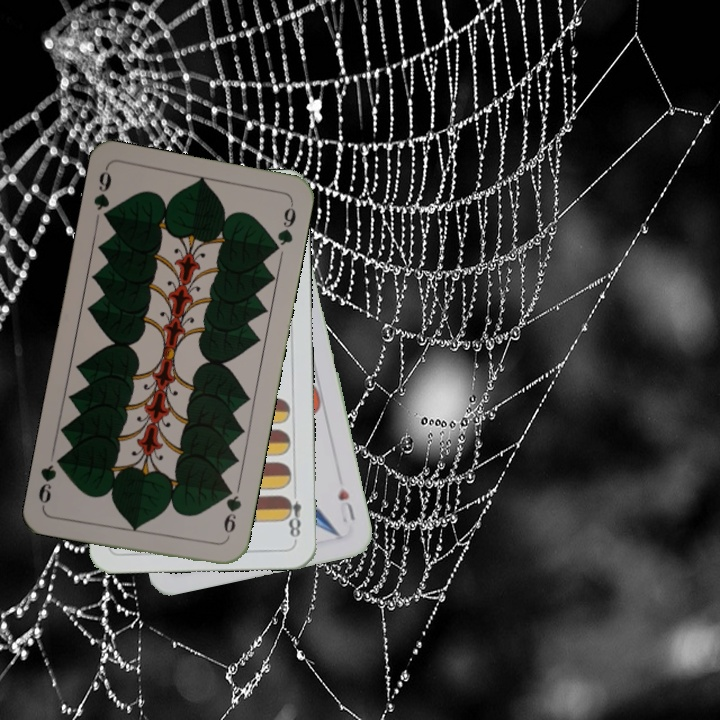E8: (281, 484, 304, 543)
G9: (89, 164, 115, 225), (219, 483, 244, 543)
HU: (334, 484, 358, 526)
